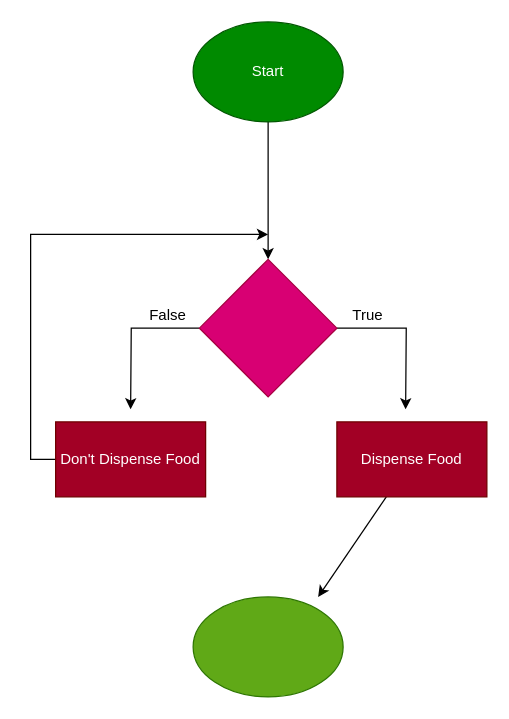
The diagram is 509 pixels wide and 719 high, and some of its shapes have lost their labels. The centre of each missing label's shape, as x and y in pixels:
End: the point at 267,646
Is it 8:00 am?: the point at 267,327
